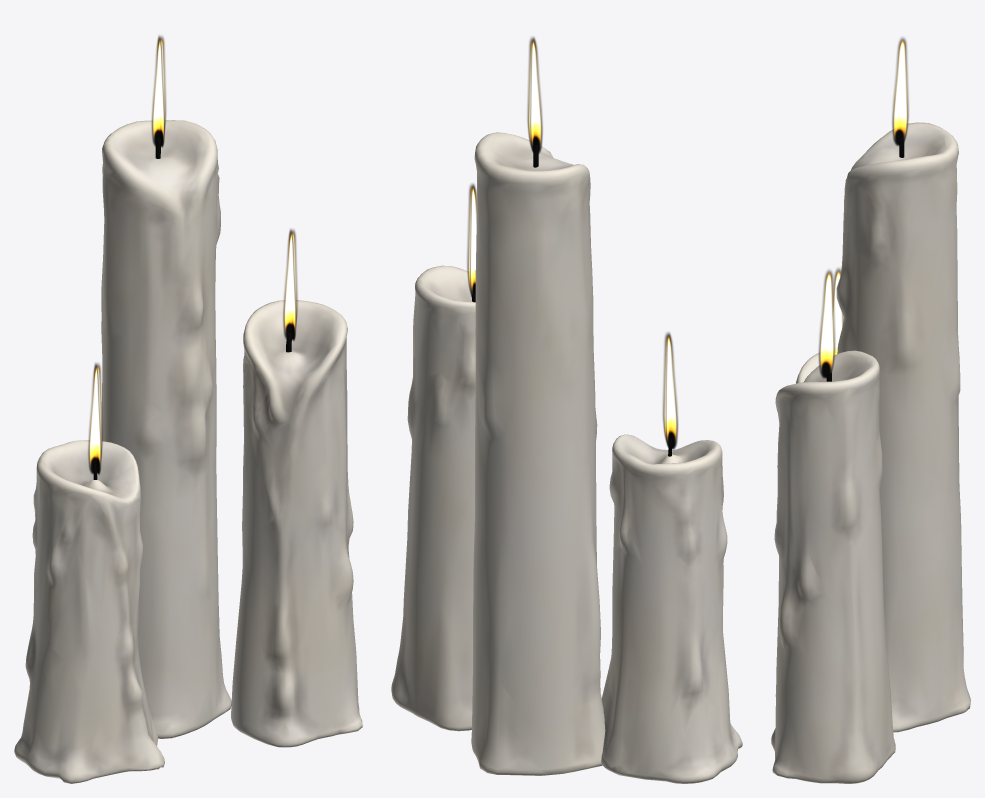
The model's file is candles.glb.
3 renders of one model, left to right at view 1: azimuth 30°, elevation 25°; view 2: azimuth 150°, elevation 25°; view 3: azimuth 270°, elevation 25°, orthographic. The views are drawn at different scales.
Parts seen in each view (by area): view 1: CandleSet01_Stick03_geo_Candles_MAT_0, CandleSet01_Stick02_Flame_geo_Candles_Fire_MAT_0; view 2: CandleSet01_Stick03_geo_Candles_MAT_0, CandleSet01_Stick02_Flame_geo_Candles_Fire_MAT_0; view 3: CandleSet01_Stick03_geo_Candles_MAT_0, CandleSet01_Stick02_Flame_geo_Candles_Fire_MAT_0.
Part boxes in pixels (box(x1,y1,x2,y2)): CandleSet01_Stick03_geo_Candles_MAT_0: box(14, 120, 362, 783); CandleSet01_Stick02_Flame_geo_Candles_Fire_MAT_0: box(88, 35, 297, 474); CandleSet01_Stick03_geo_Candles_MAT_0: box(391, 132, 742, 783); CandleSet01_Stick02_Flame_geo_Candles_Fire_MAT_0: box(467, 37, 677, 449); CandleSet01_Stick03_geo_Candles_MAT_0: box(771, 122, 970, 783); CandleSet01_Stick02_Flame_geo_Candles_Fire_MAT_0: box(818, 37, 908, 378).
Size of the model in its own units: 0.1522 by 0.3185 by 0.084.
3 materials, 2 textured.
